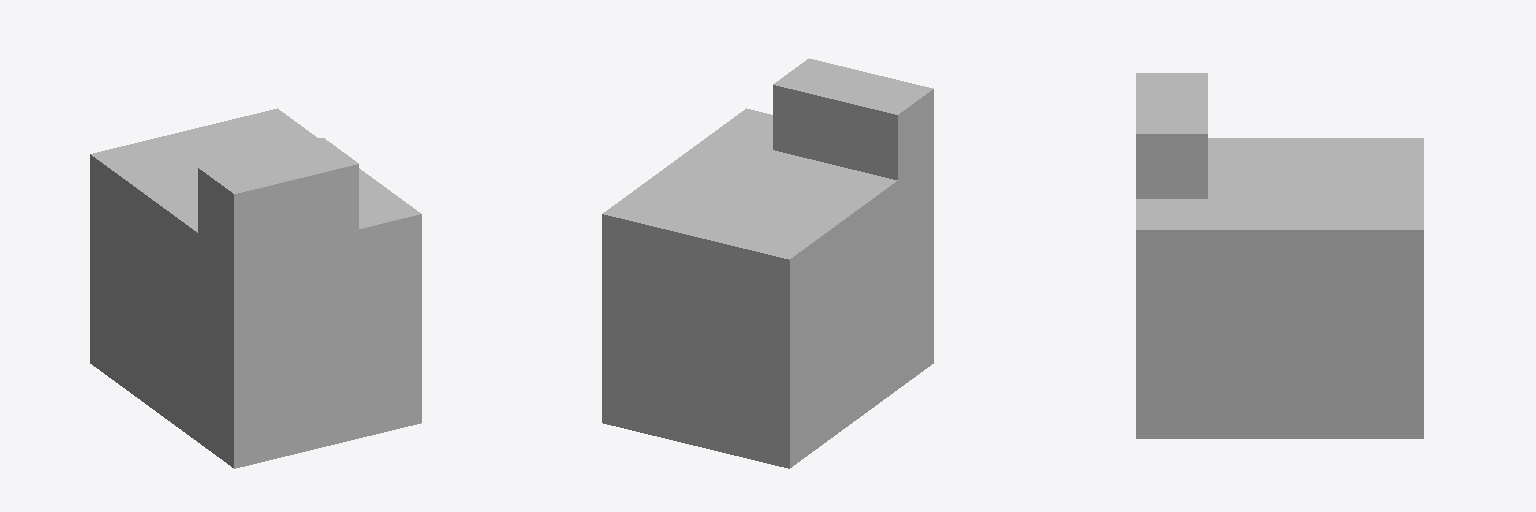
The model's file is floor_2to1.obj.
3 views of the same model, side by side, from view 1: azimuth 30°, elevation 25°; view 2: azimuth 150°, elevation 25°; view 3: azimuth 270°, elevation 25° (orthographic).
Visible parts, largest first — view 1: cube; view 2: cube; view 3: cube.
Boxes of the visible parts, x1=… form: cube: x1=90, y1=108, x2=421, y2=468; cube: x1=602, y1=58, x2=933, y2=468; cube: x1=1136, y1=73, x2=1423, y2=438.
Bounding box in the file's own units: 0.1875 × 0.2625 × 0.25.